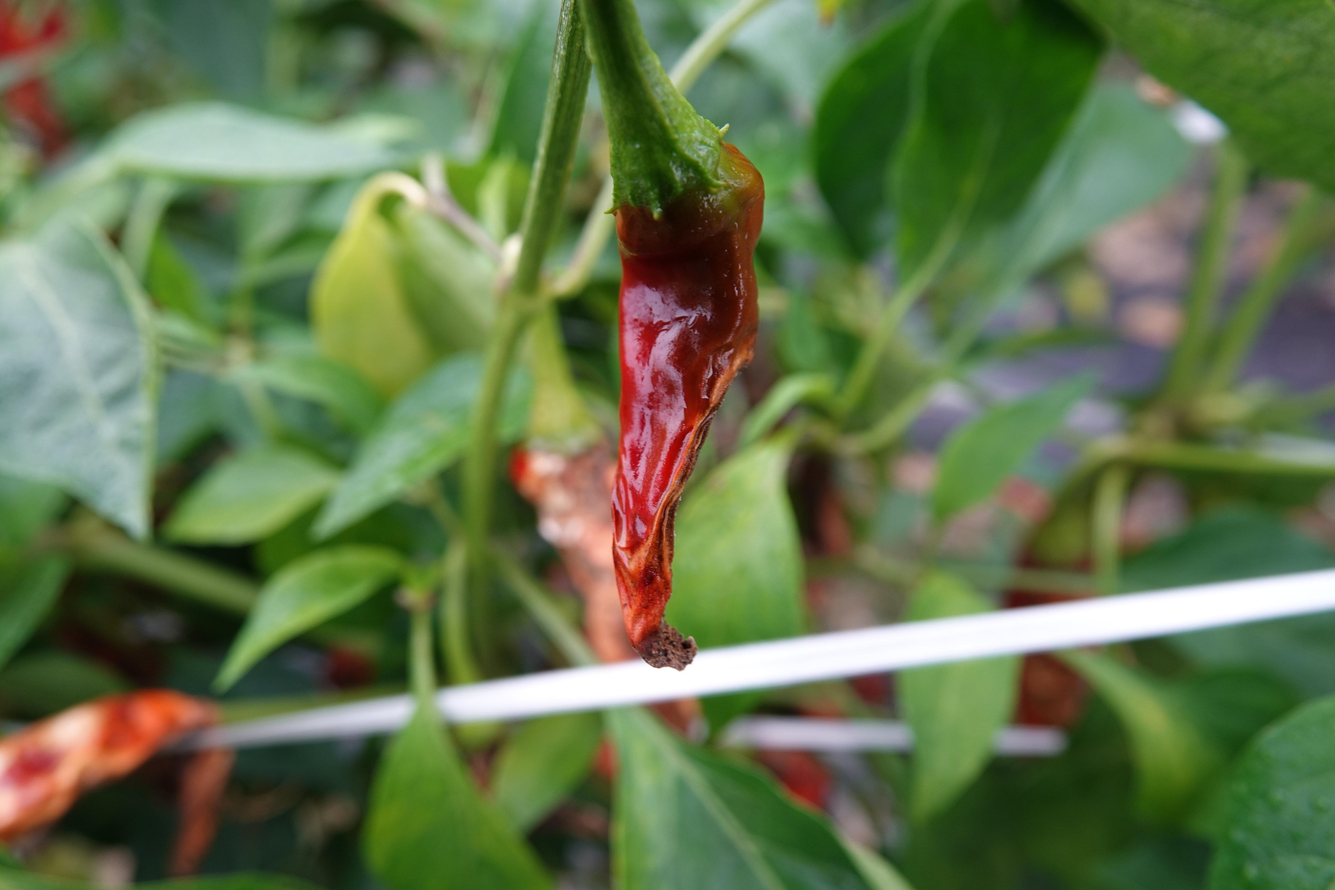Busuk Buah Antraknosa: (604, 133, 767, 672)
